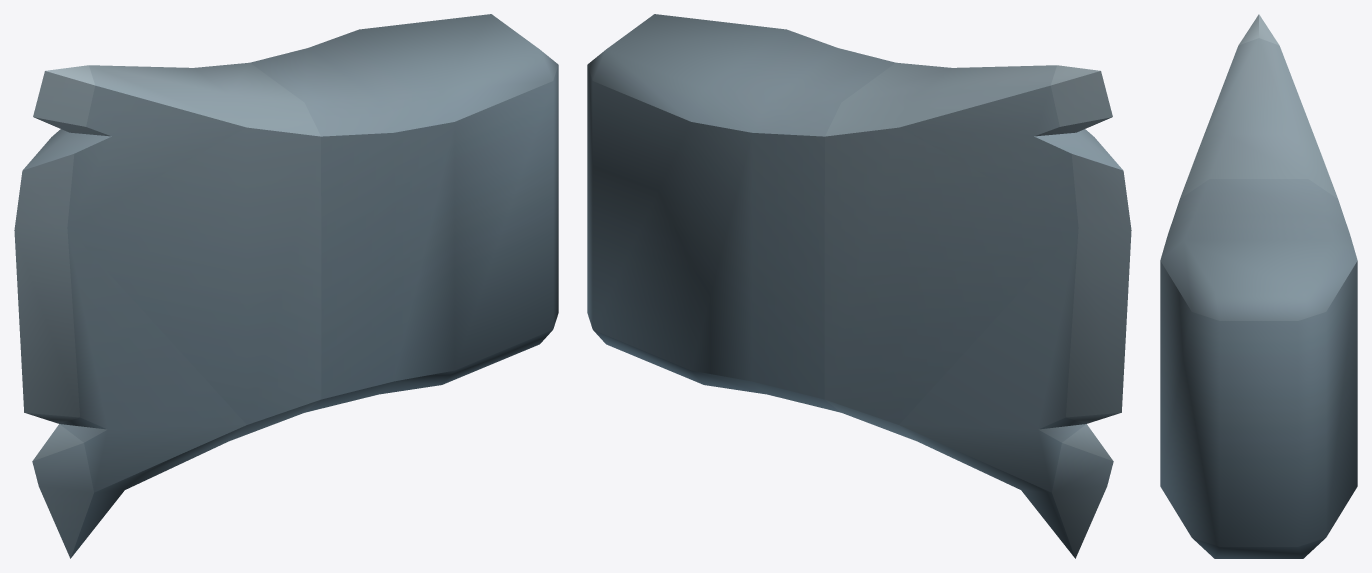
Rendered from MyIsolatedAxeHead.fbx.
3 views of the same model, side by side, from view 1: azimuth 30°, elevation 25°; view 2: azimuth 150°, elevation 25°; view 3: azimuth 270°, elevation 25° (orthographic). The views are drawn at different scales.
Parts seen in each view (by area): view 1: axe.001; view 2: axe.001; view 3: axe.001.
Boxes of the visible parts, left/top/right/bottom form: axe.001: left=14, top=14, right=558, bottom=558; axe.001: left=587, top=14, right=1131, bottom=558; axe.001: left=1160, top=14, right=1357, bottom=558.
Size of the model in its own units: 62.31 by 56.33 by 22.44.
